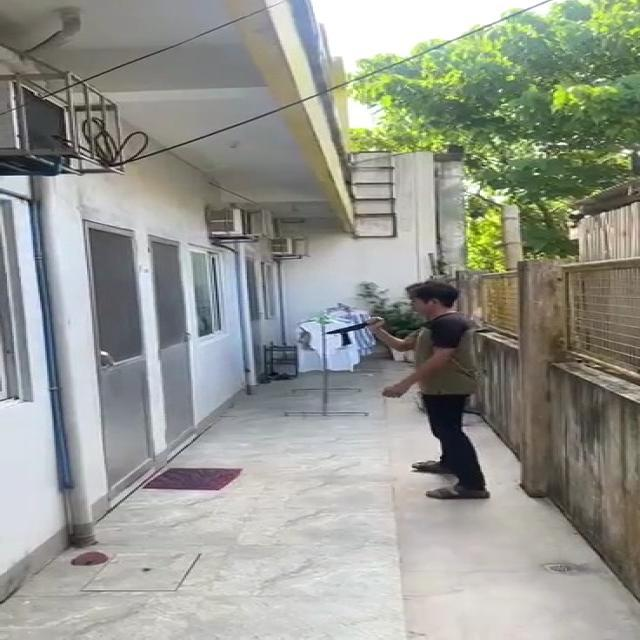knife: (324, 317, 382, 335)
non-violence: (320, 281, 492, 500)
